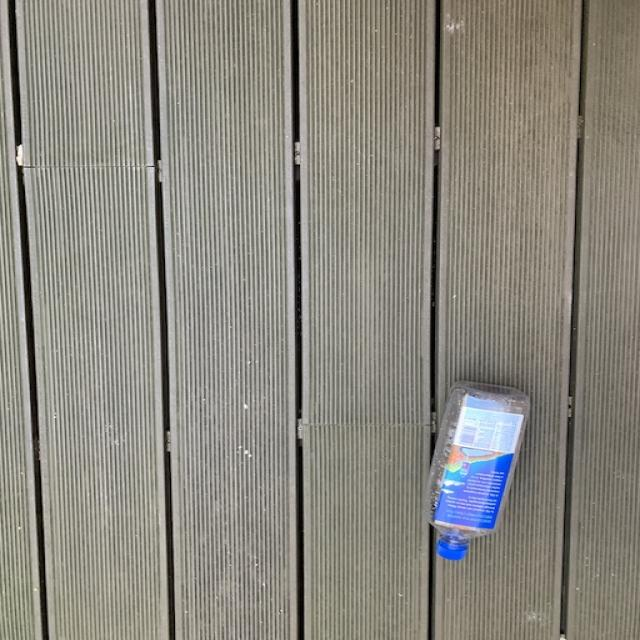litter: (413, 378, 542, 576)
